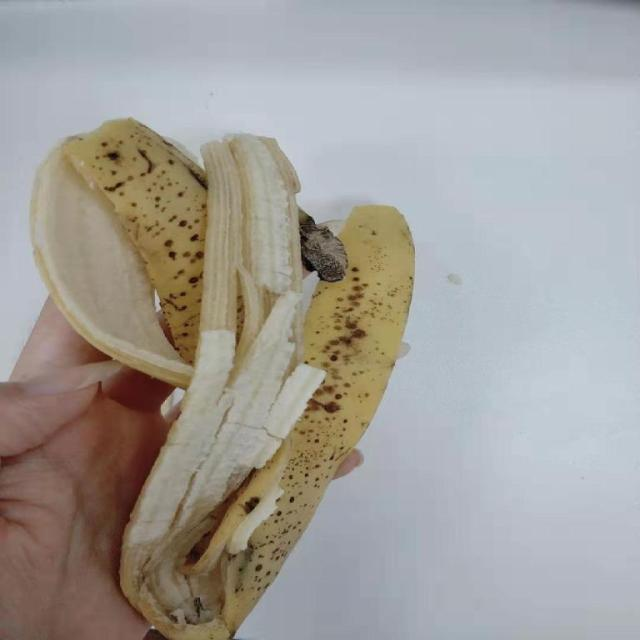Wet Waste: (29, 116, 418, 640)
